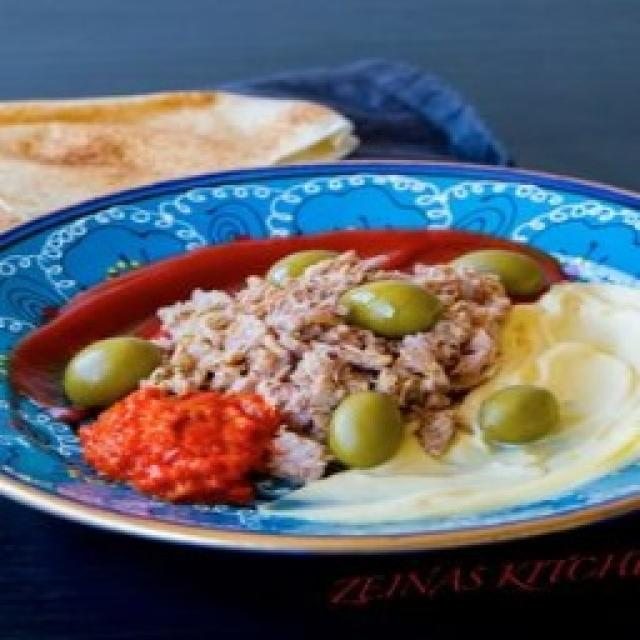Kafteji: (0, 230, 640, 548)
